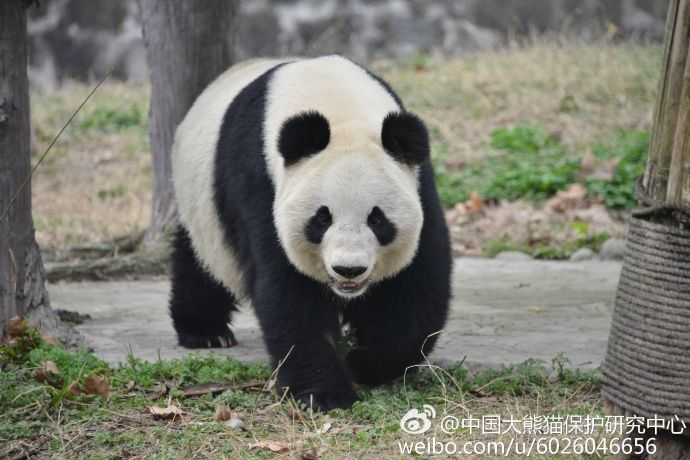panda: (152, 51, 465, 414)
